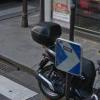Motorcycle: (23, 18, 100, 100)
